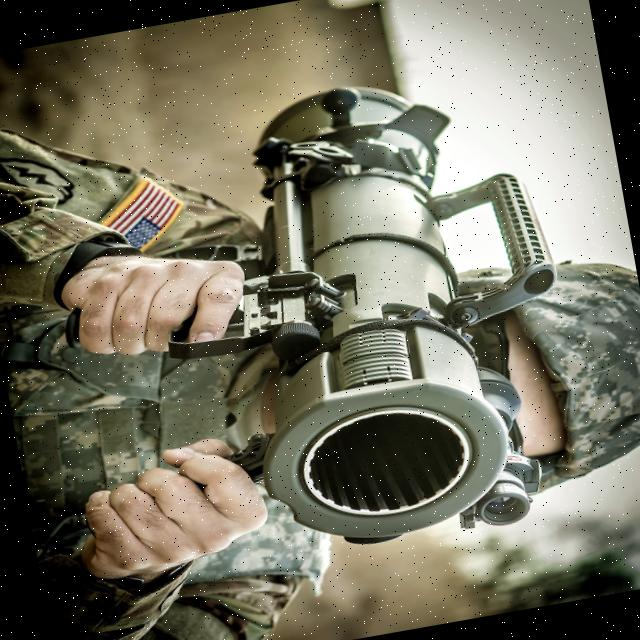Bazooka: (138, 56, 597, 572)
